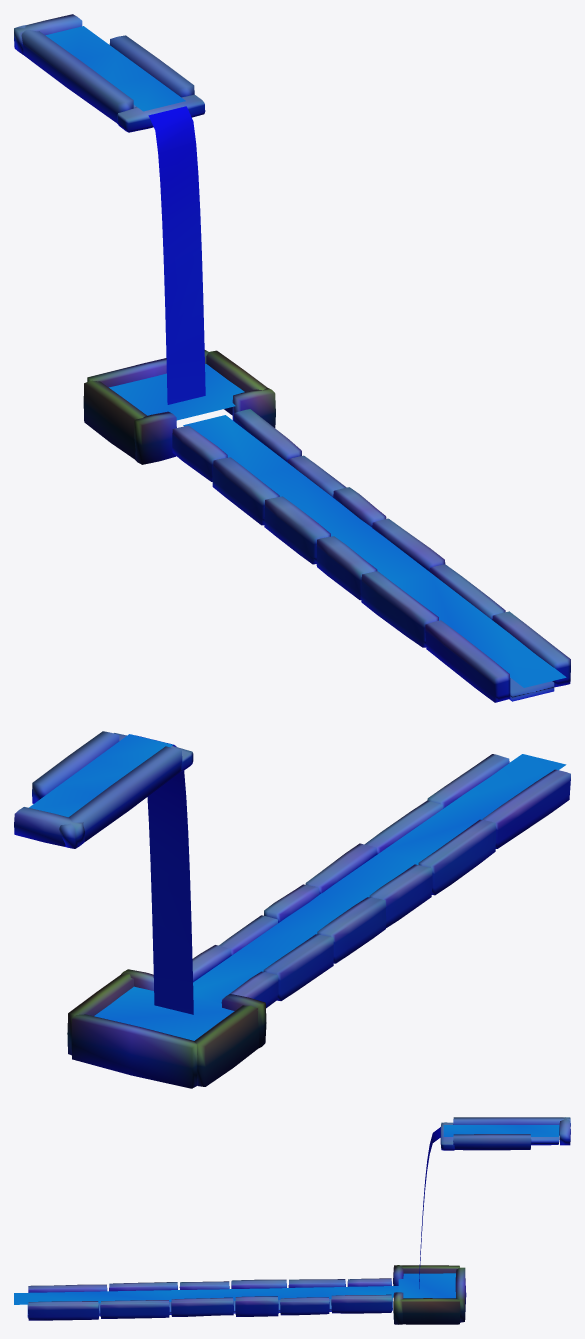
Rendered from terrace_spill_l.glb.
3 renders of one model, top to bottom at view 1: azimuth 30°, elevation 25°; view 2: azimuth 150°, elevation 25°; view 3: azimuth 270°, elevation 25°, orthographic. The views are drawn at different scales.
Visible parts, largest first — view 1: terrace_spill_l; view 2: terrace_spill_l; view 3: terrace_spill_l.
Part boxes in pixels (<box>): terrace_spill_l: <box>14,14,570,702</box>; terrace_spill_l: <box>14,731,570,1088</box>; terrace_spill_l: <box>14,1117,570,1324</box>.
Size of what is drawn, in the model's own units: 1.14 by 2.62 by 7.17.
